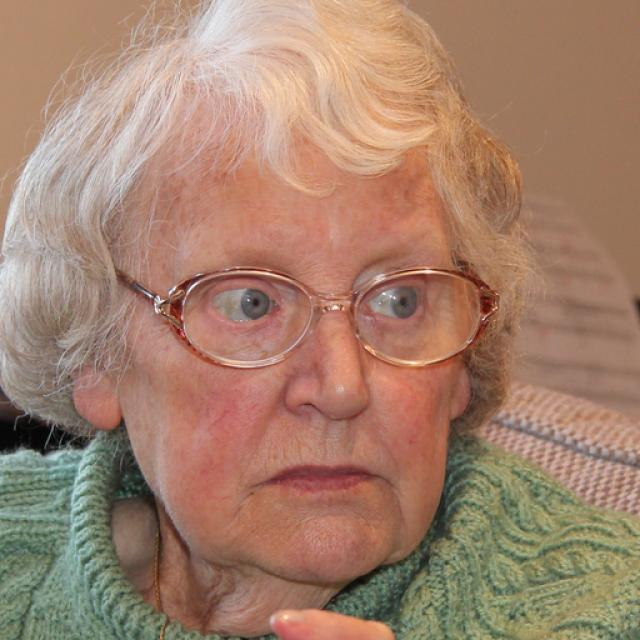fear: (118, 142, 468, 578)
